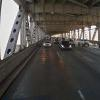Bridge: (11, 0, 92, 39)
